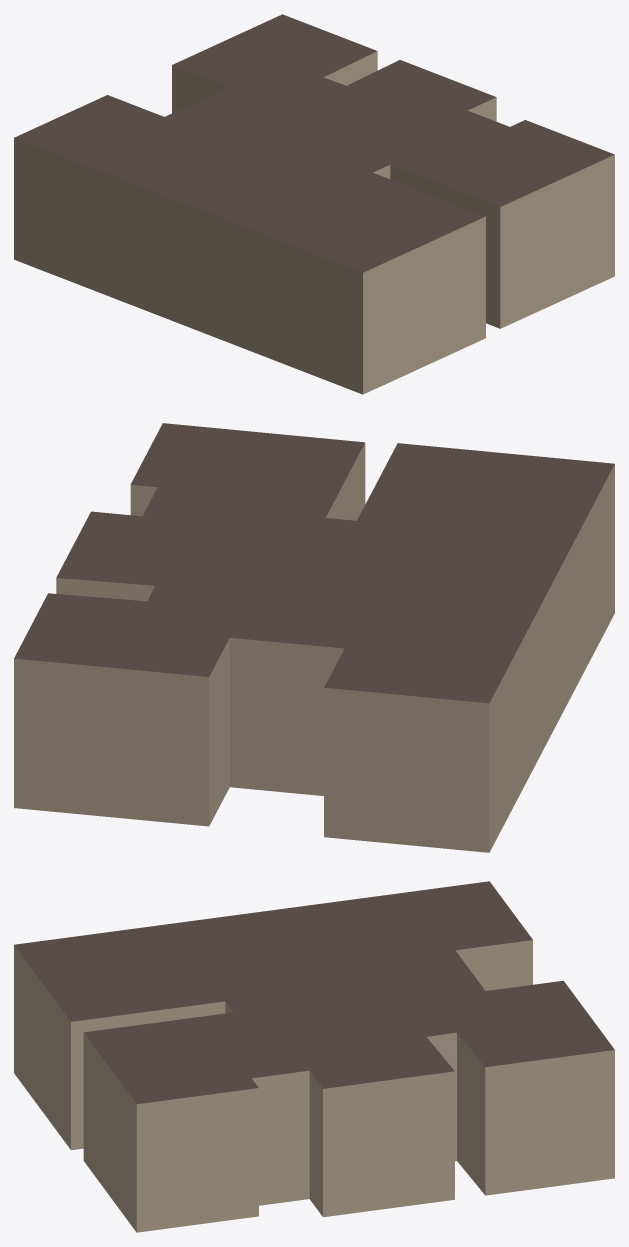
The picture shows the model from 3 angles, top to bottom: view 1: azimuth 30°, elevation 25°; view 2: azimuth 150°, elevation 25°; view 3: azimuth 270°, elevation 25°; orthographic projection. The views are drawn at different scales.
Visible parts, largest first — view 1: HP-w293397503; view 2: HP-w293397503; view 3: HP-w293397503.
Boxes of the visible parts, x1=… form: HP-w293397503: x1=14, y1=14, x2=614, y2=394; HP-w293397503: x1=14, y1=423, x2=614, y2=852; HP-w293397503: x1=14, y1=881, x2=614, y2=1232.
Bounding box in the file's own units: 33.52 × 9 × 38.17.
